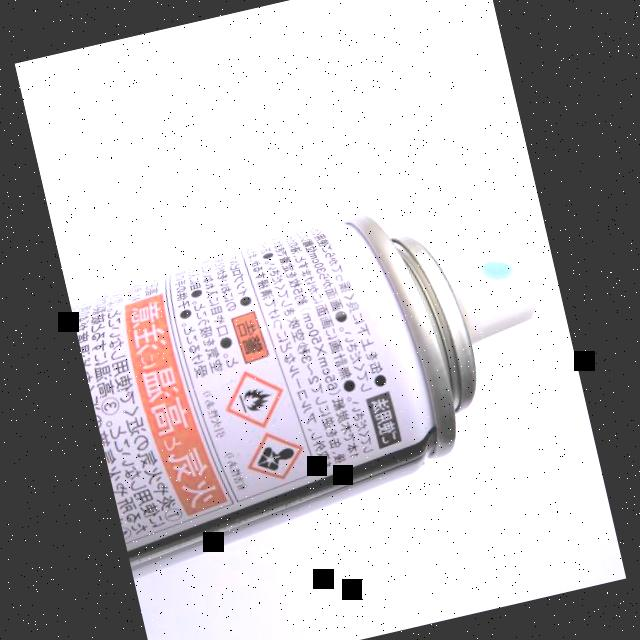chemical_spray_can: (70, 212, 537, 576)
